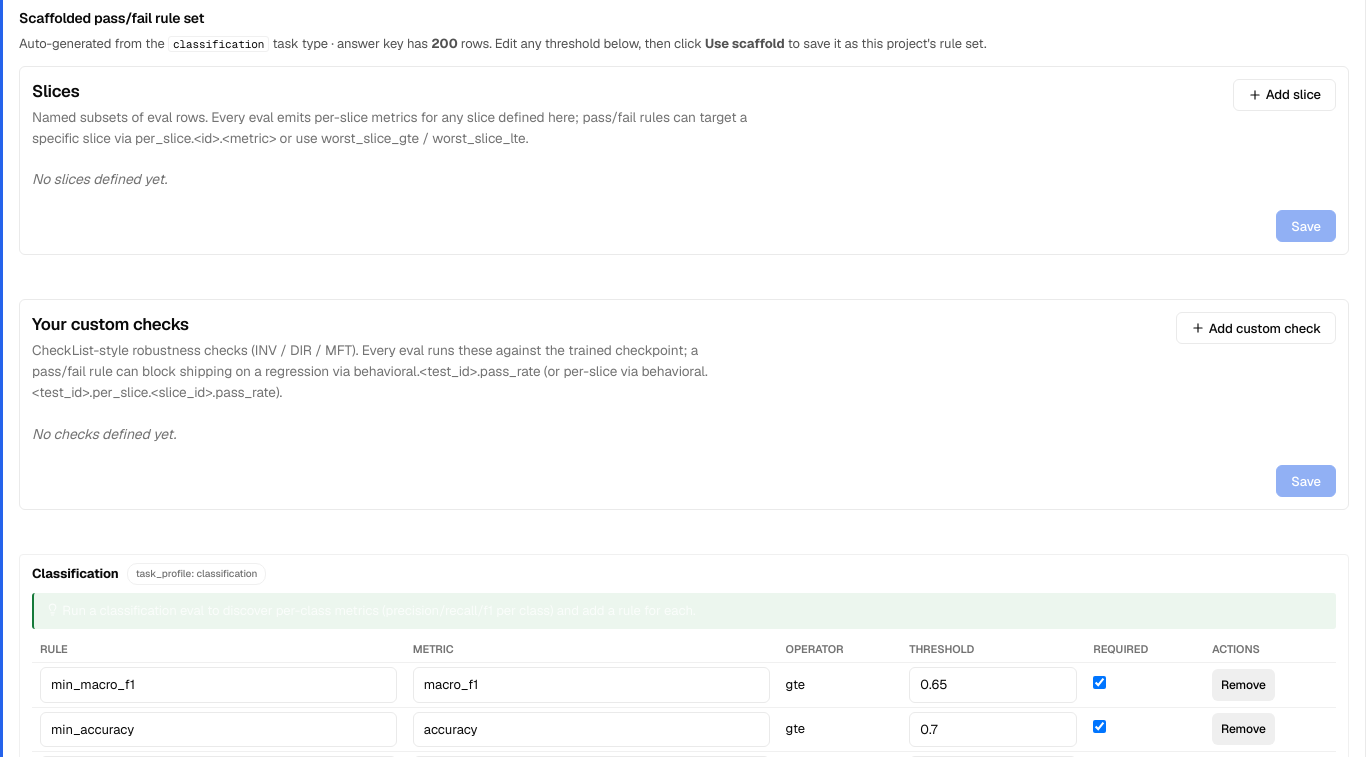
Test case: EvalPackScaffoldPanel › discard edits restores the original draft pack
The width and height of the screenshot is (1366, 757).
# Mutate then discard.
Replace the text in the number field with test id "eval-pack-scaffold-gate-min_accuracy-threshold" with "0.95" at (993, 729), box [909,712,1077,747]
(page scrolled)
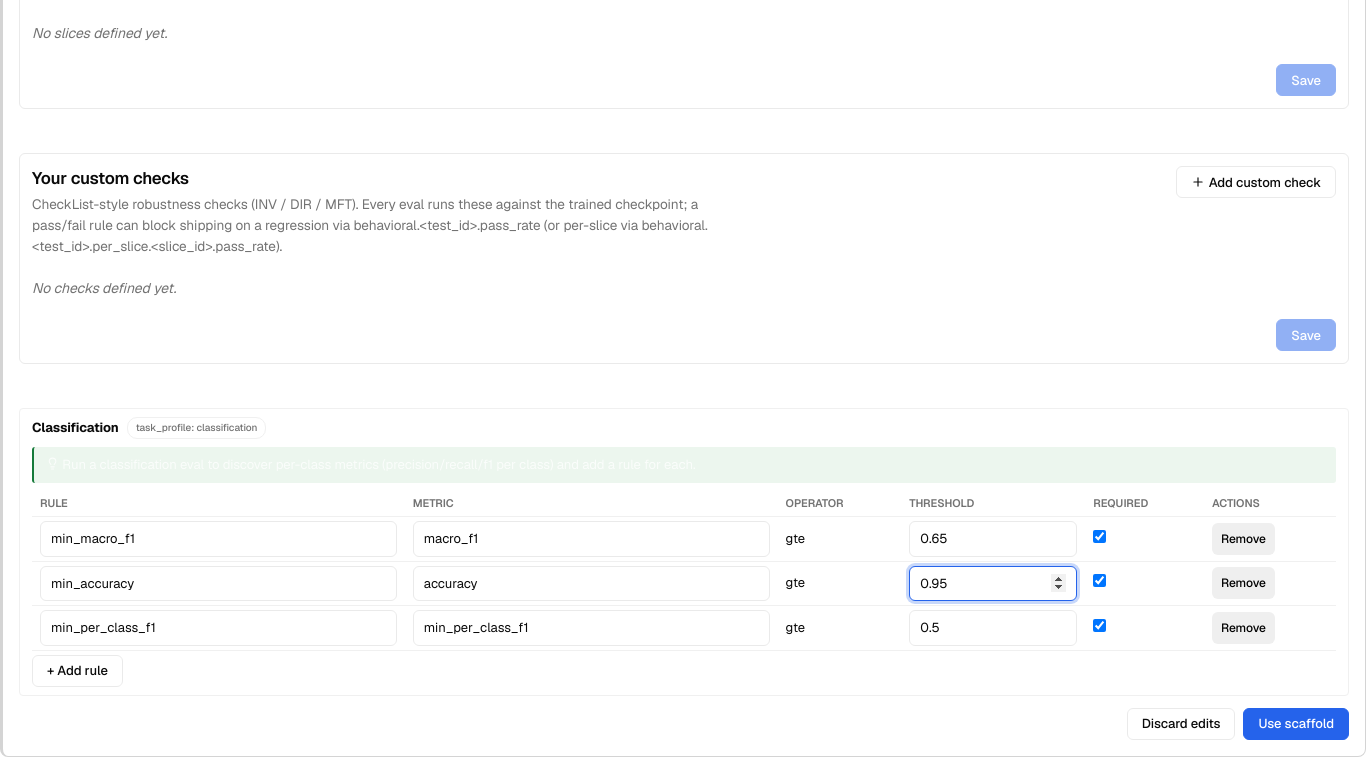
Click the button with test id "eval-pack-scaffold-discard" at (1181, 724), box [1127,708,1236,740]
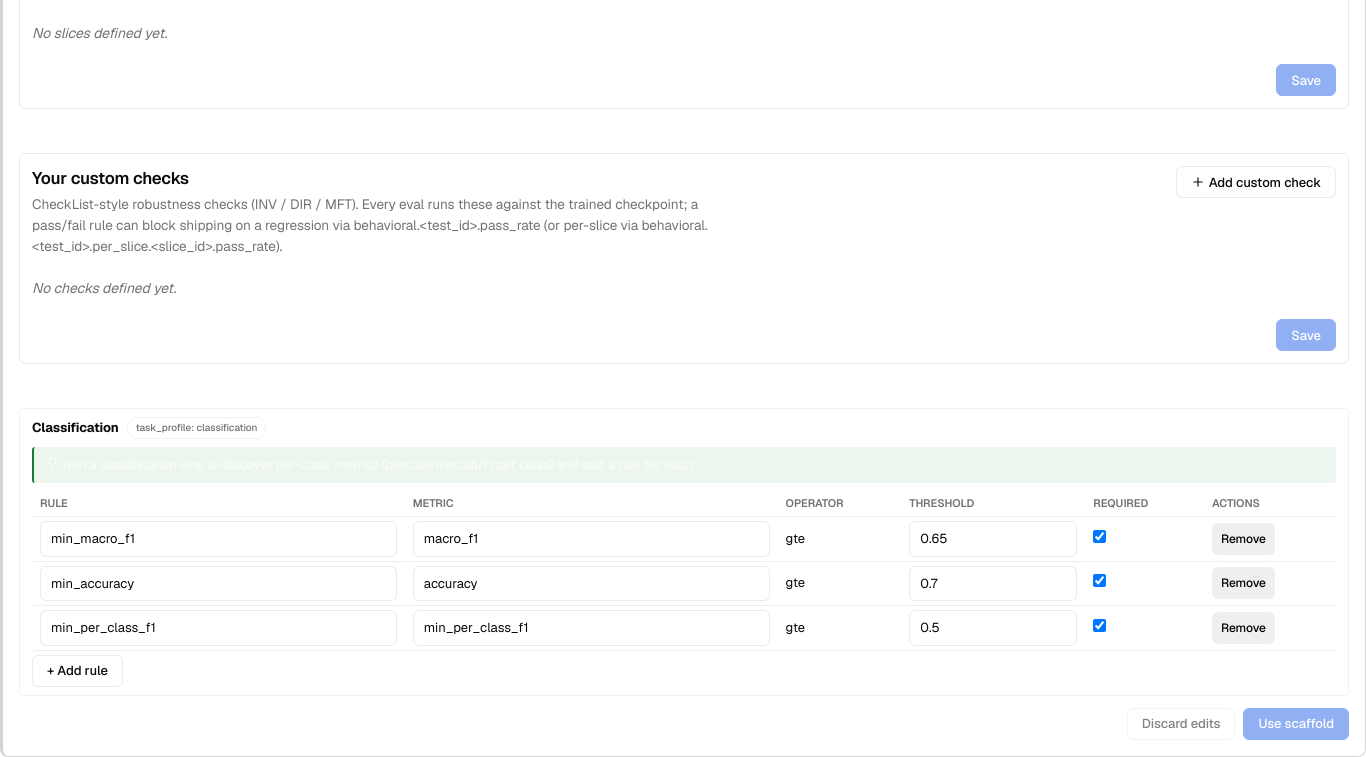
expect the number field with test id "eval-pack-scaffold-gate-min_accuracy-threshold" holds "0.7": met, box [909,566,1077,601]
